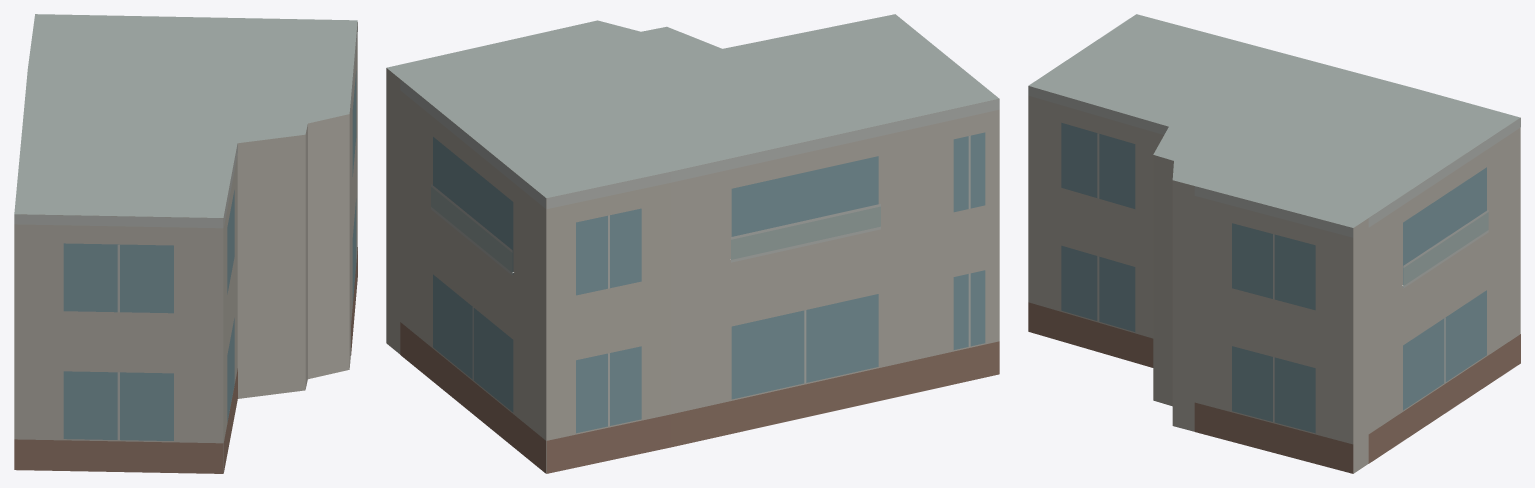
The model's file is survey-upis-32919889.glb.
The picture shows the model from 3 angles, left to right: view 1: azimuth 30°, elevation 25°; view 2: azimuth 150°, elevation 25°; view 3: azimuth 270°, elevation 25°; orthographic projection. The views are drawn at different scales.
Parts seen in each view (by area): view 1: survey-upis-32919889.tmp; view 2: survey-upis-32919889.tmp; view 3: survey-upis-32919889.tmp.
Part boxes in pixels (left/top/right/bottom): survey-upis-32919889.tmp: left=14, top=14, right=357, bottom=473; survey-upis-32919889.tmp: left=386, top=14, right=999, bottom=473; survey-upis-32919889.tmp: left=1028, top=14, right=1520, bottom=473.
Bounding box in the file's own units: 11.4 × 6.1 × 11.08.
